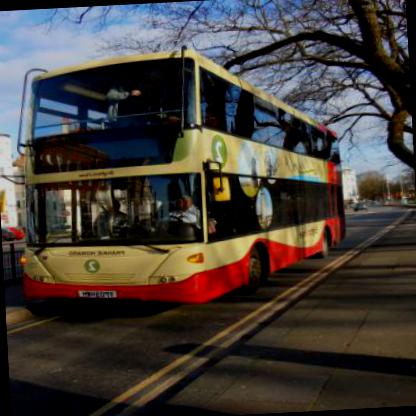bus: (0, 30, 352, 317)
